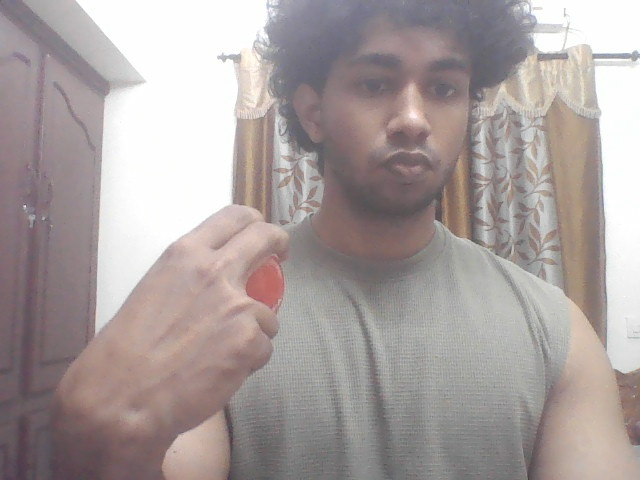cricket_ball: (247, 253, 296, 319)
